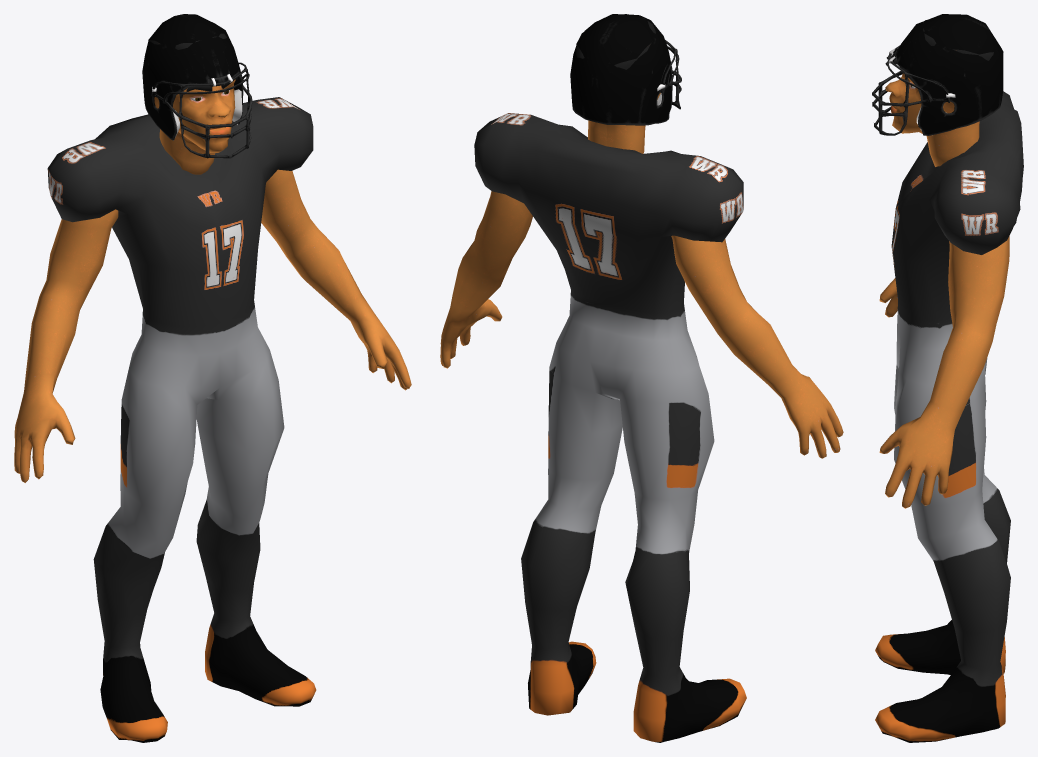
File: football2.glb
The picture shows the model from 3 angles, left to right: view 1: azimuth 30°, elevation 25°; view 2: azimuth 150°, elevation 25°; view 3: azimuth 270°, elevation 25°; orthographic projection.
Visible parts, largest first — view 1: body_low, arms_low, Helmet_low, face_low; view 2: body_low, arms_low, Helmet_low, face_low; view 3: body_low, arms_low, Helmet_low, face_low.
Part boxes in pixels (x1,y1,x2,y2): body_low: [47, 97, 316, 742]; arms_low: [14, 169, 411, 482]; Helmet_low: [142, 14, 252, 158]; face_low: [148, 33, 235, 174]; body_low: [474, 113, 746, 742]; arms_low: [440, 191, 843, 458]; Helmet_low: [570, 14, 681, 125]; face_low: [576, 14, 660, 153]; body_low: [875, 91, 1023, 742]; arms_low: [879, 236, 1009, 508]; Helmet_low: [872, 14, 1003, 135]; face_low: [885, 20, 993, 166].
Bounding box in the file's own units: 28.09 × 47.57 × 9.59.
Materials: 2 (2 with a texture image).
